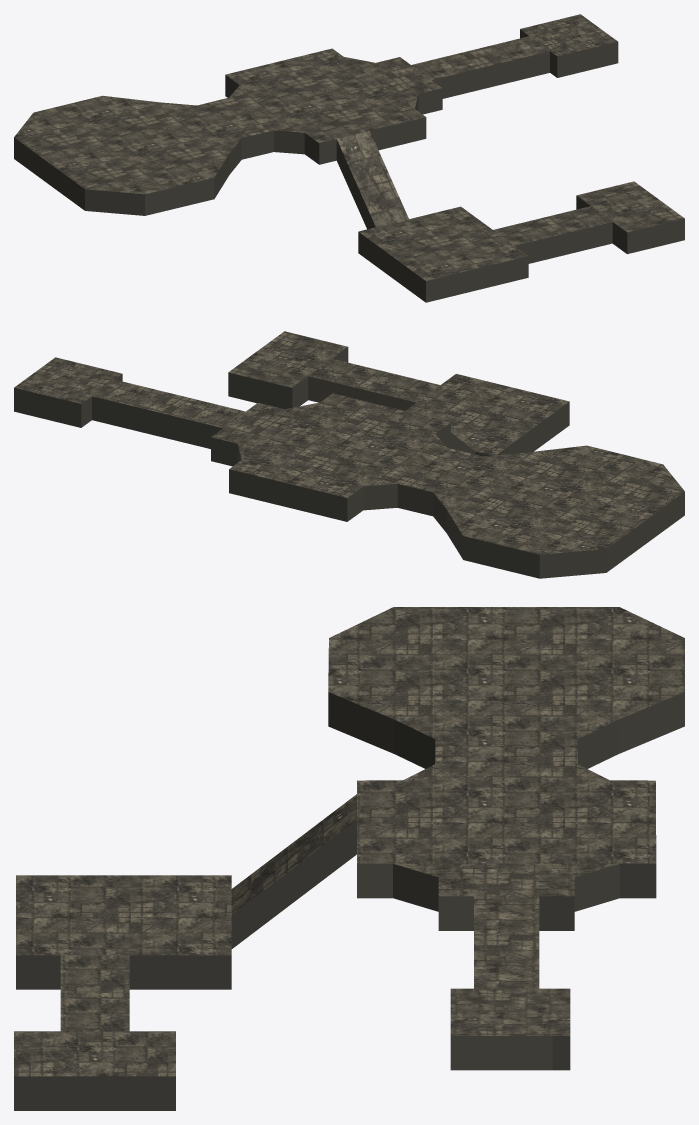
File: Stage3.fbx
3 renders of one model, top to bottom at view 1: azimuth 30°, elevation 25°; view 2: azimuth 150°, elevation 25°; view 3: azimuth 270°, elevation 25°, orthographic. The views are drawn at different scales.
Parts seen in each view (by area): view 1: Stage3; view 2: Stage3; view 3: Stage3.
Part boxes in pixels (<box>): Stage3: <box>14,14,684,302</box>; Stage3: <box>14,331,684,578</box>; Stage3: <box>14,607,684,1110</box>.
Size of the model in its own units: 3503 by 493 by 2316.
Materials: 4 (1 with a texture image).
